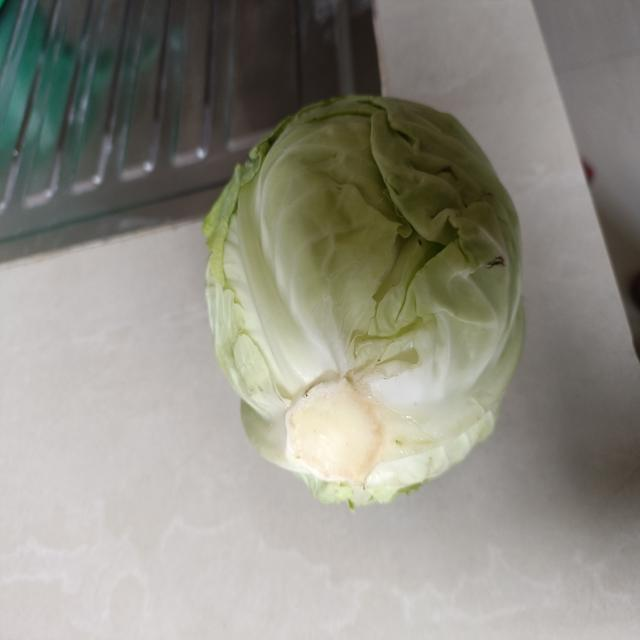cabbage: (197, 86, 530, 517)
